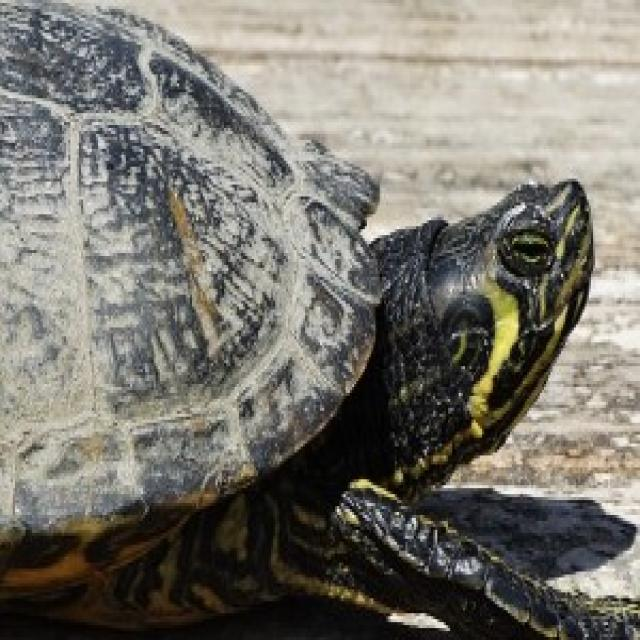Sea turtle: (0, 7, 615, 640)
